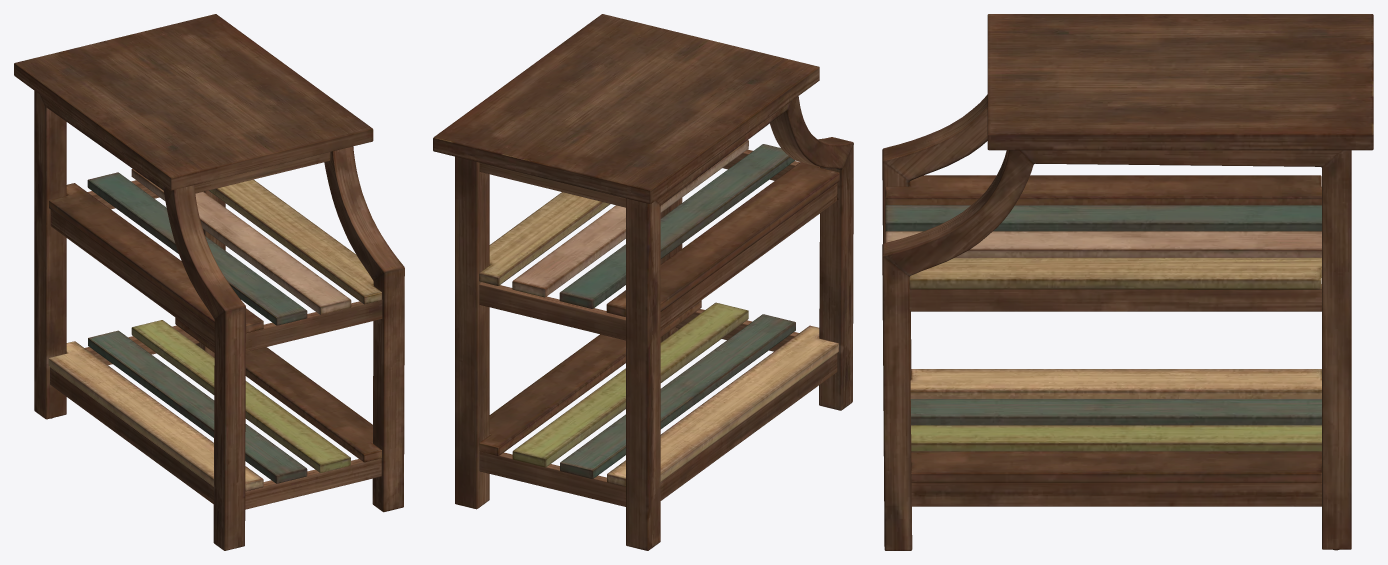
The model's file is B07H2BZR16.glb.
The picture shows the model from 3 angles, left to right: view 1: azimuth 30°, elevation 25°; view 2: azimuth 150°, elevation 25°; view 3: azimuth 270°, elevation 25°; orthographic projection. The views are drawn at different scales.
Parts seen in each view (by area): view 1: RootNode; view 2: RootNode; view 3: RootNode.
Boxes of the visible parts, left/top/right/bottom form: RootNode: left=14, top=14, right=404, bottom=550; RootNode: left=433, top=14, right=853, bottom=550; RootNode: left=882, top=14, right=1373, bottom=550.
Size of the model in its own units: 0.3555 by 0.5843 by 0.6093.
1 material, 1 textured.
